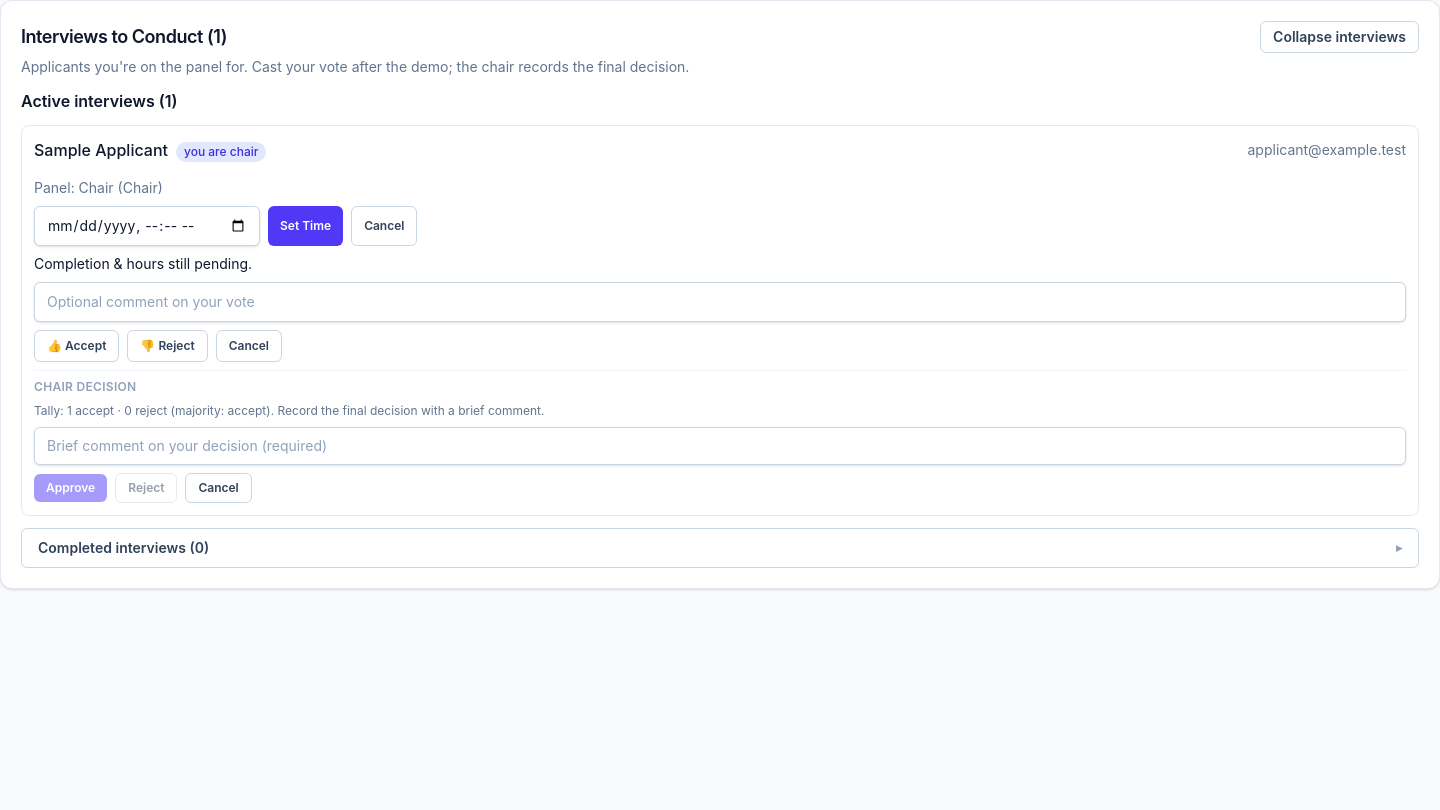
collects explicit hours and attendance for approval, and only writes after the consequence review
This screenshot has width=1440, height=810.
Type "Panel decision draft" into the field labelled "Brief comment on your decision (required)" at [720, 446], box 34,427 -> 1406,465
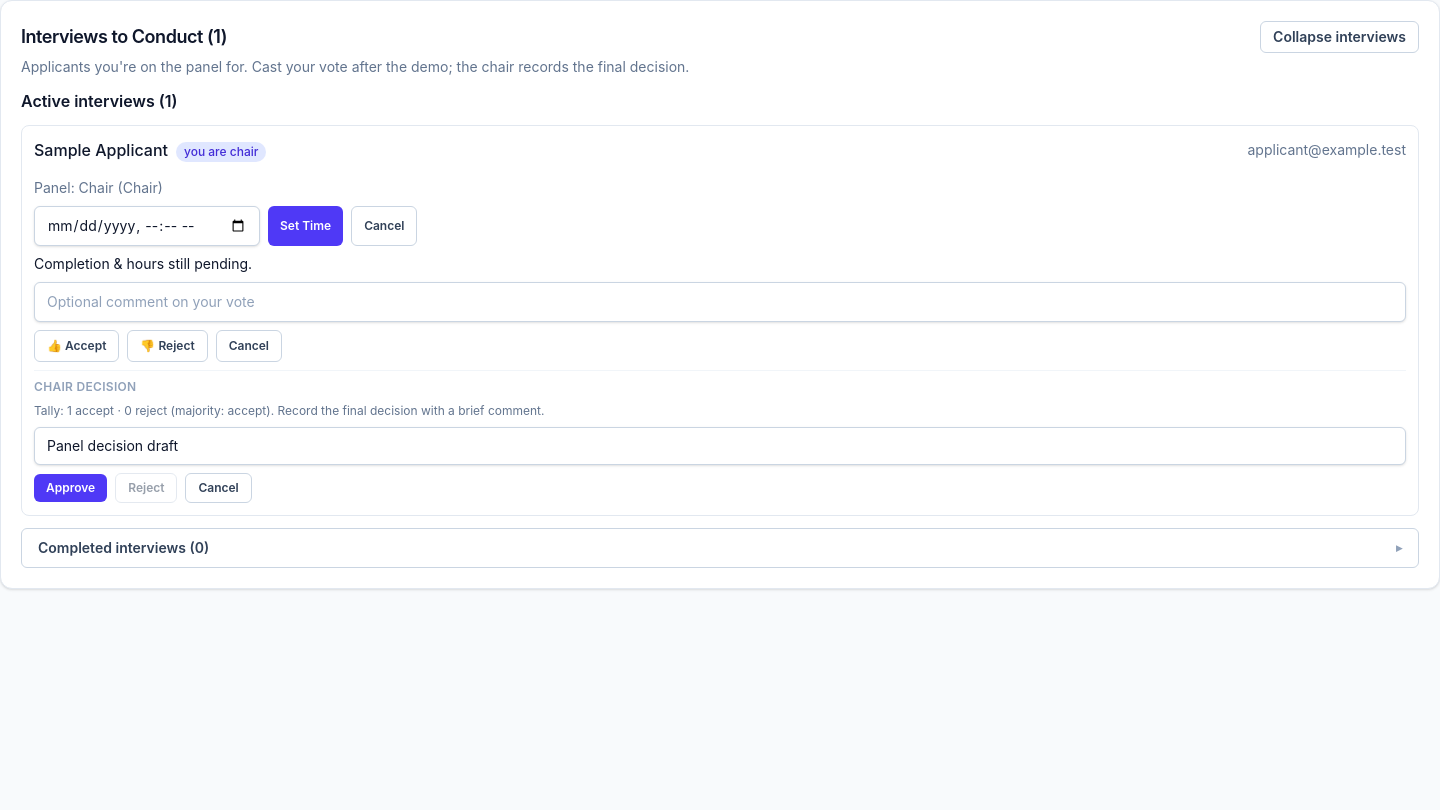
Click the button "Approve" at [71, 488], box 34,474 -> 107,502
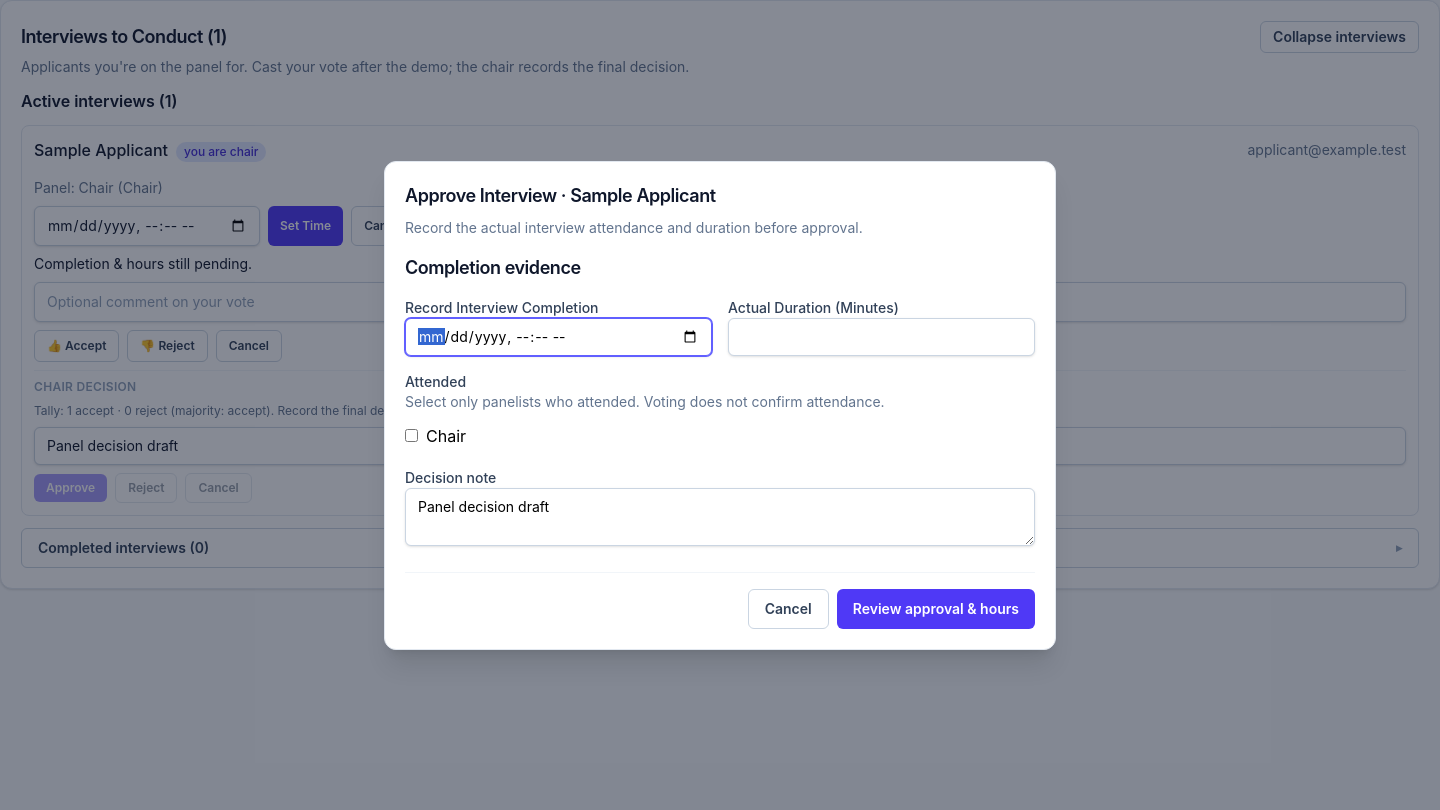
Expected: the dialog shows "Sample Applicant", 405,184 -> 716,206
Type "2026-09-01T10:00" into the field labelled "Record Interview Completion" at [558, 336], box 405,318 -> 712,356
Type "45" into the number field labelled "Actual Duration (Minutes)" at [882, 336], box 728,318 -> 1035,356
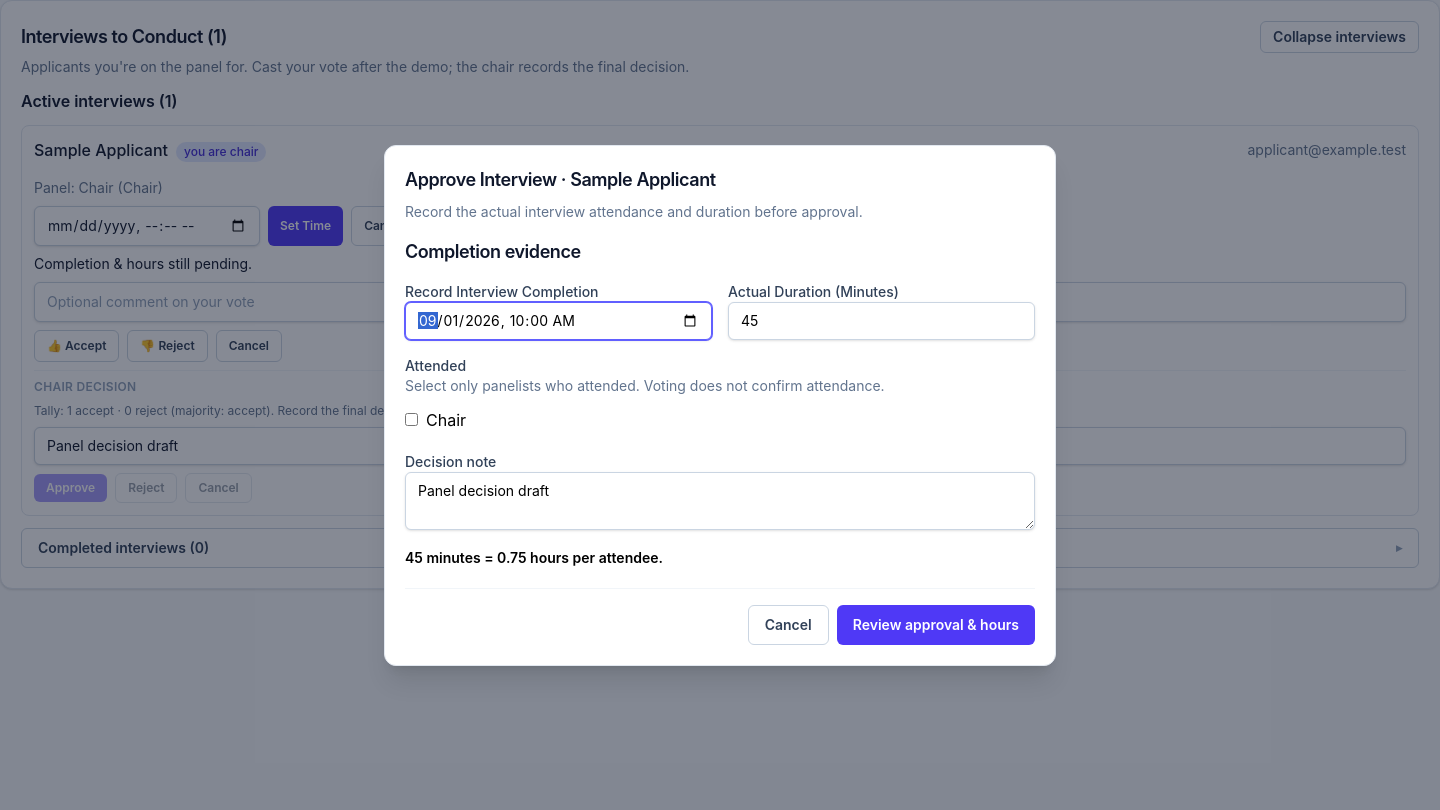
Click the checkbox labelled "Chair" at [412, 420], box 405,413 -> 418,426
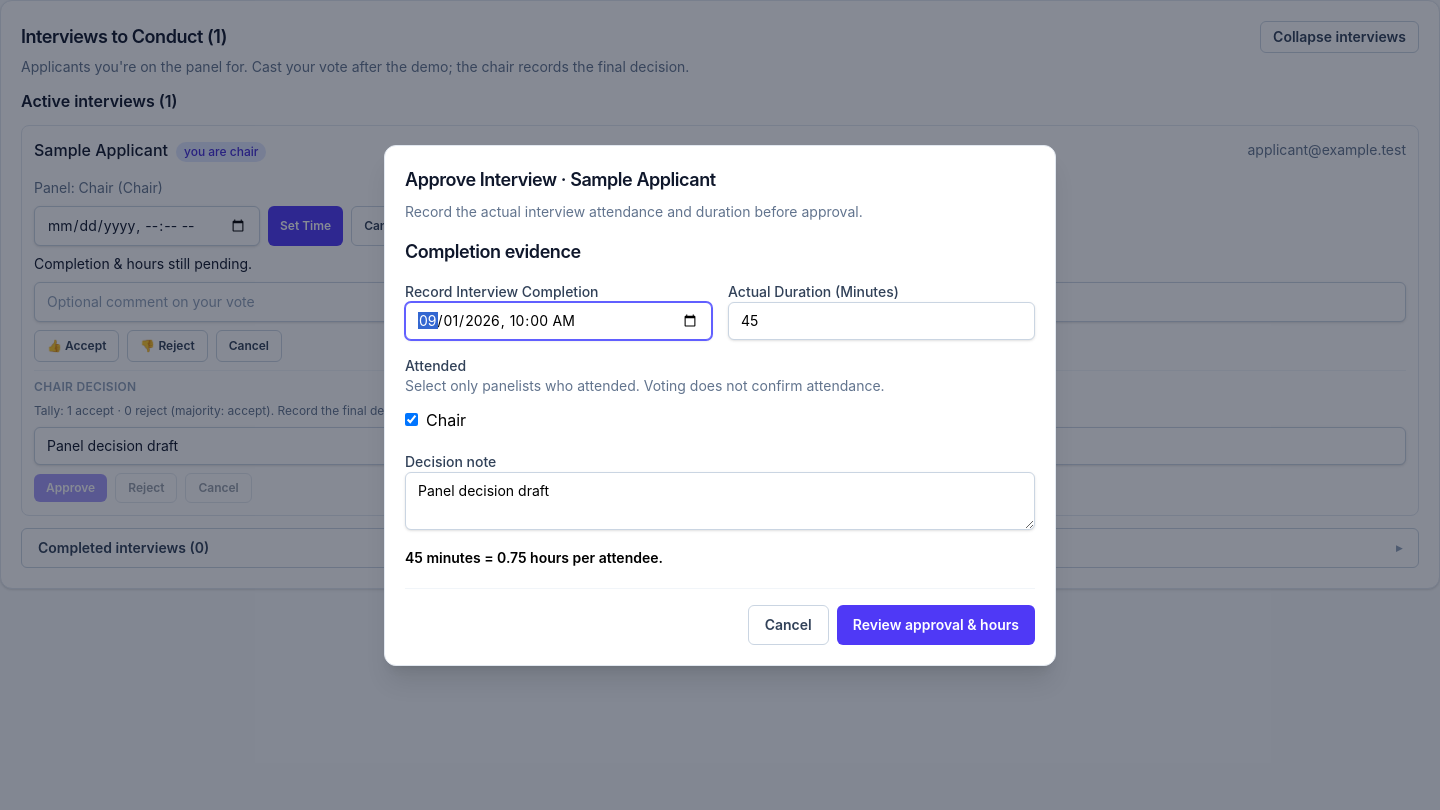
Click the button "Review approval & hours" at [936, 624], box 837,604 -> 1035,644
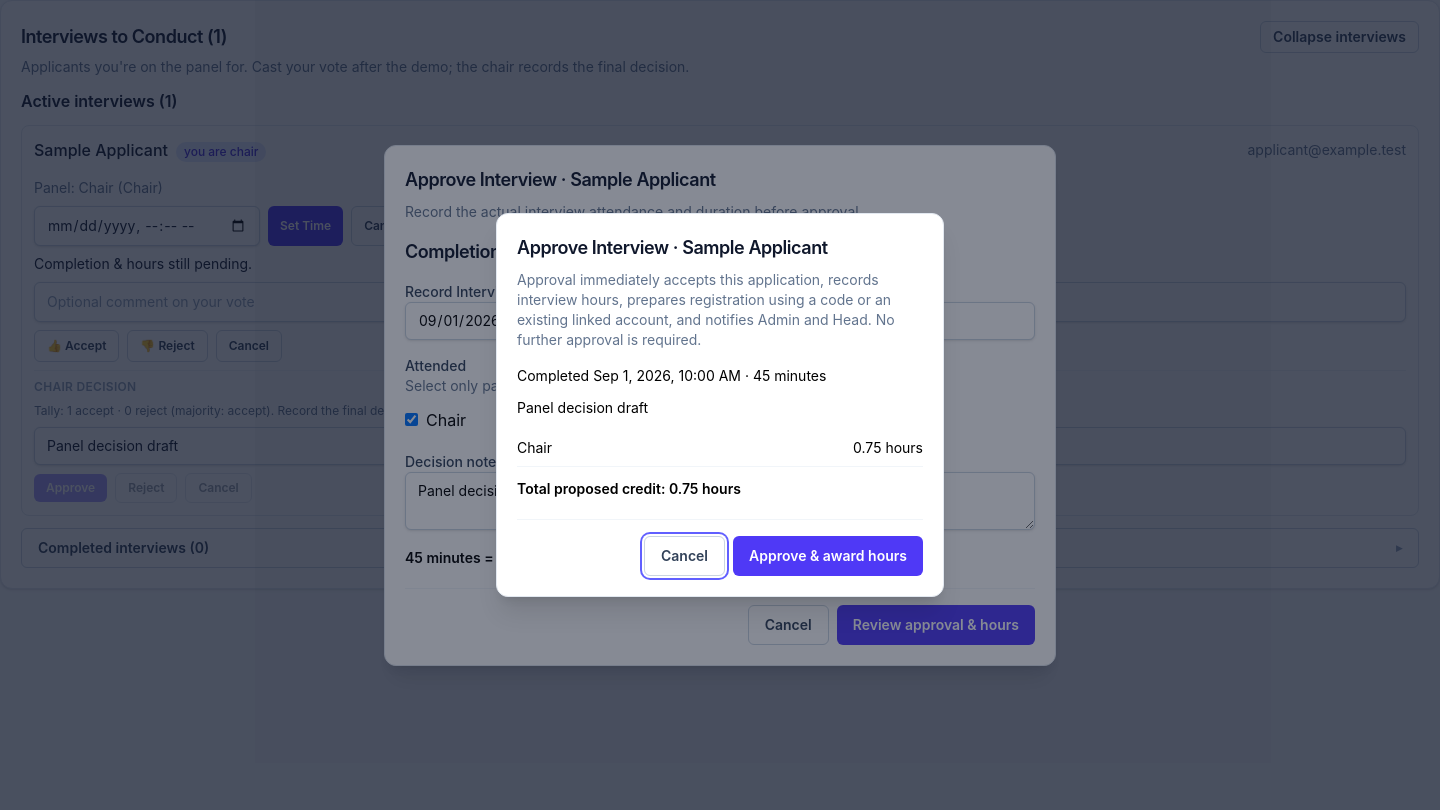
Click the button "Approve & award hours" at [828, 556], box 733,536 -> 923,576
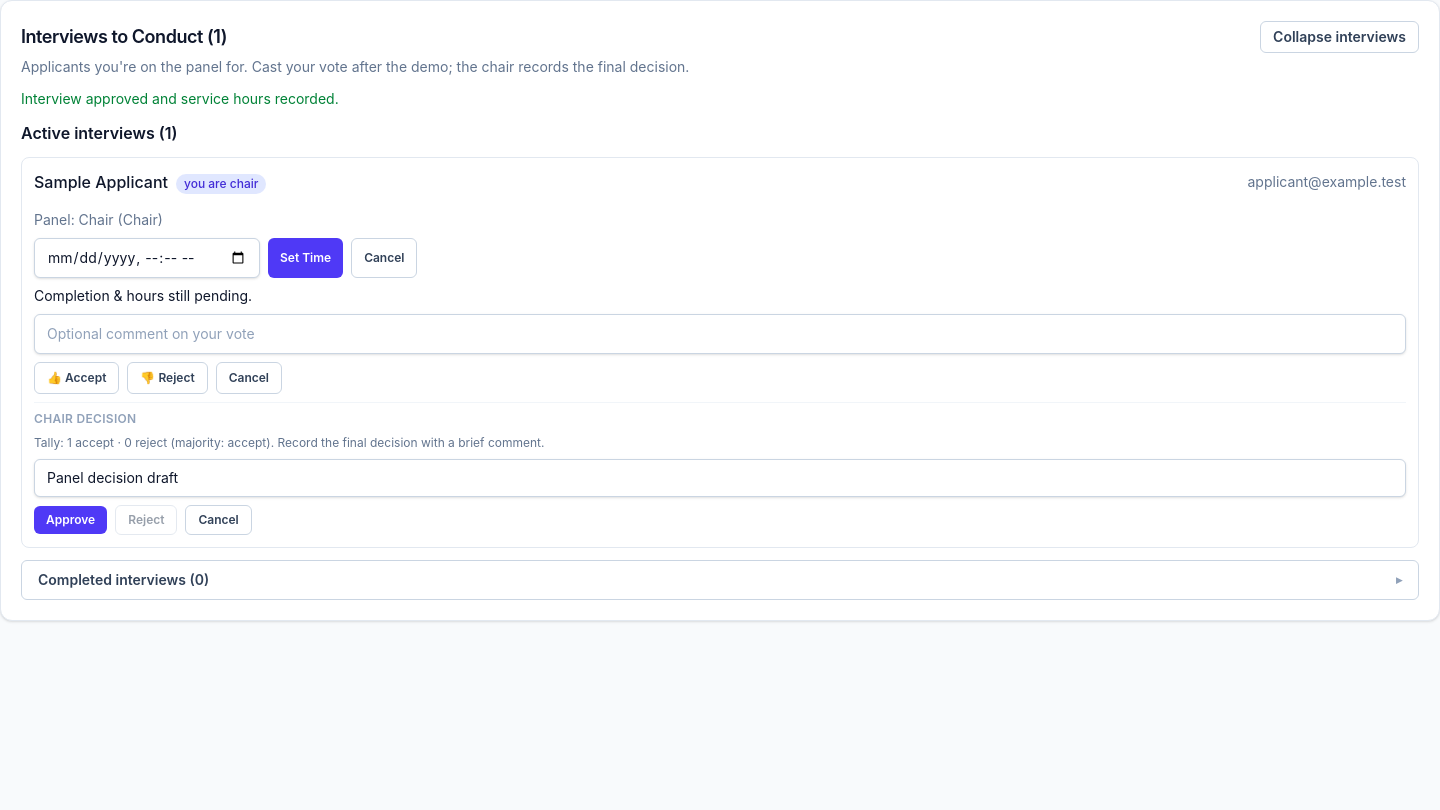
Expected: the dialog is gone
